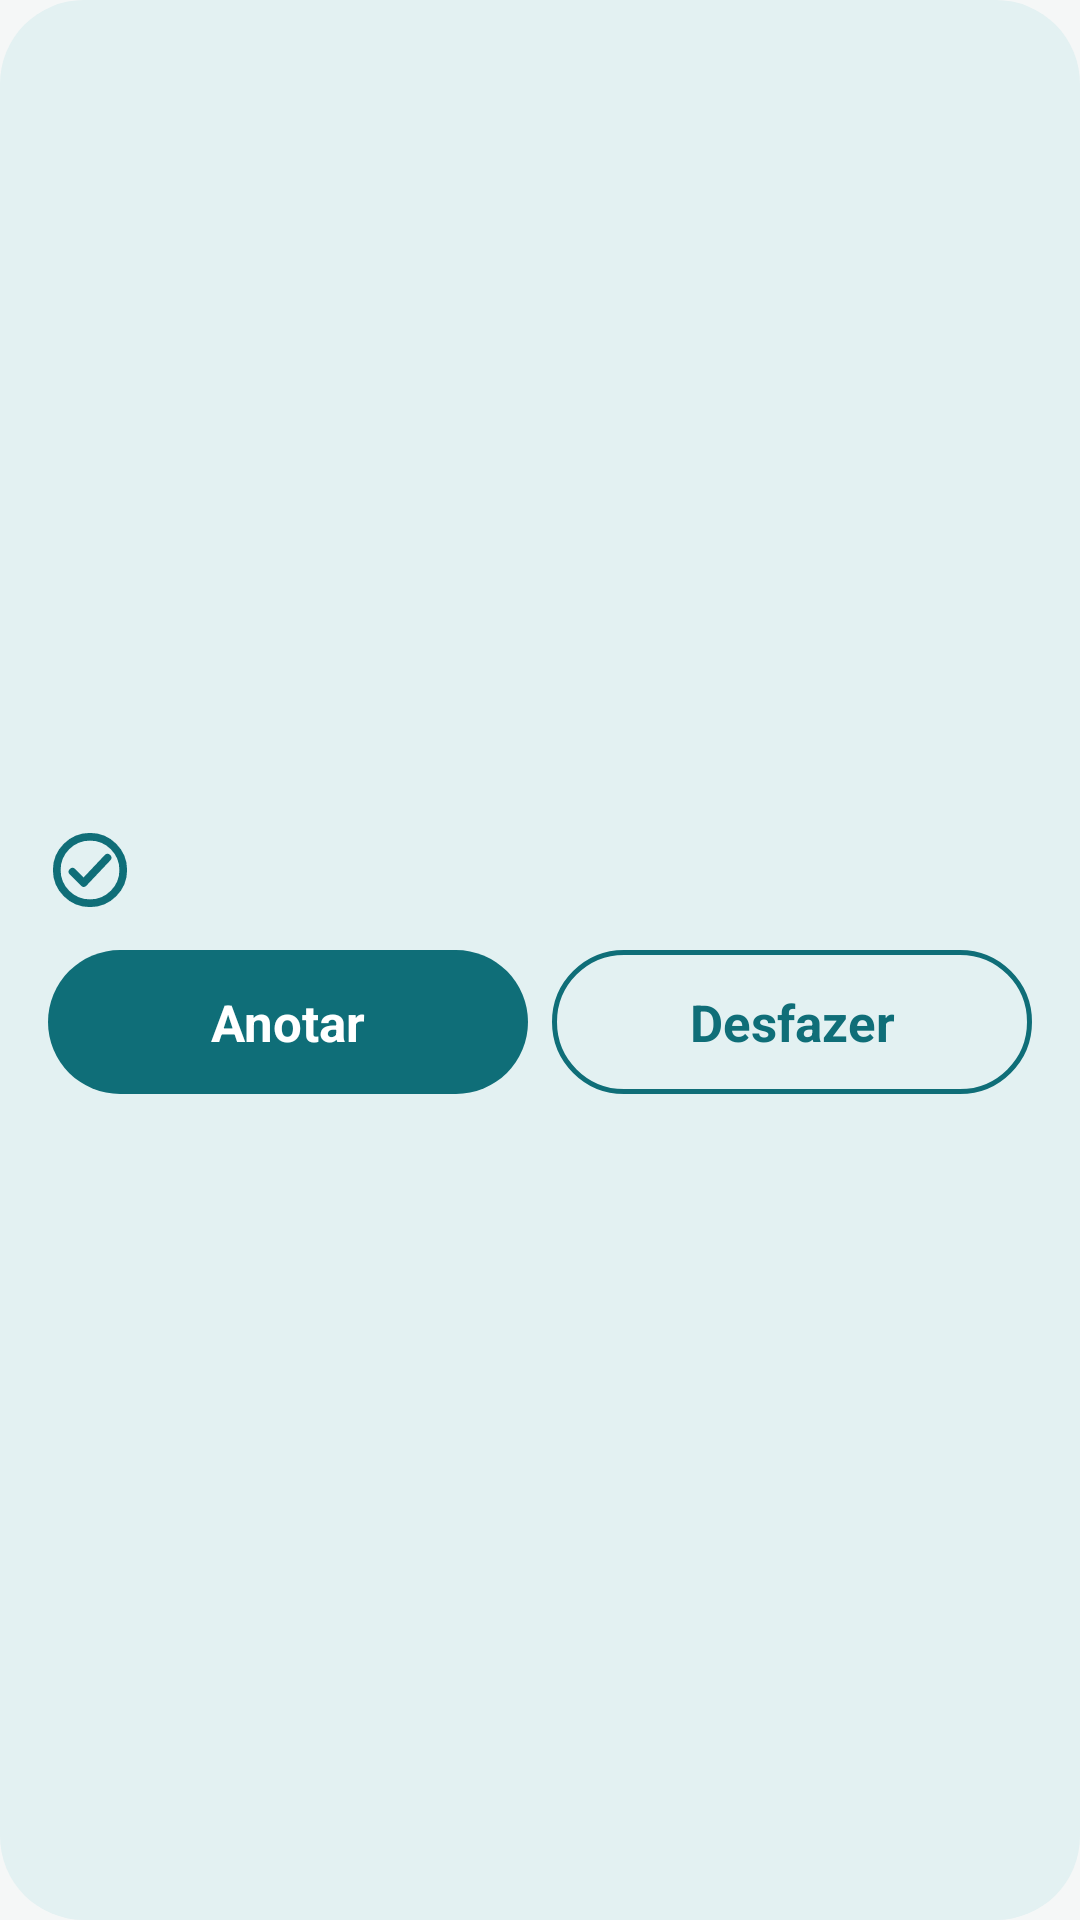

Icon bounding boxes for this 1080*1920 phone screenshot, format (x1, y1, x2, y2):
check widget: (53, 833, 127, 907)
